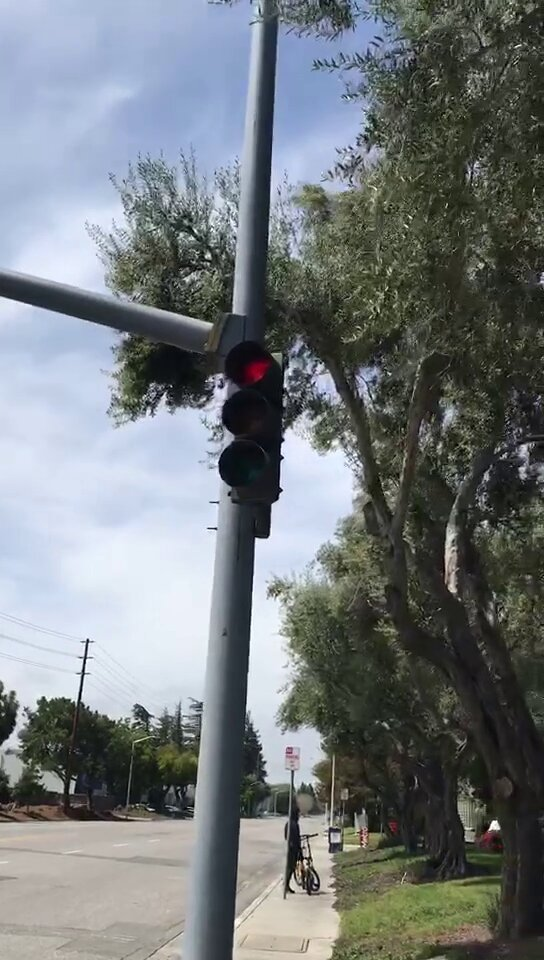red_light: (220, 339, 274, 491)
